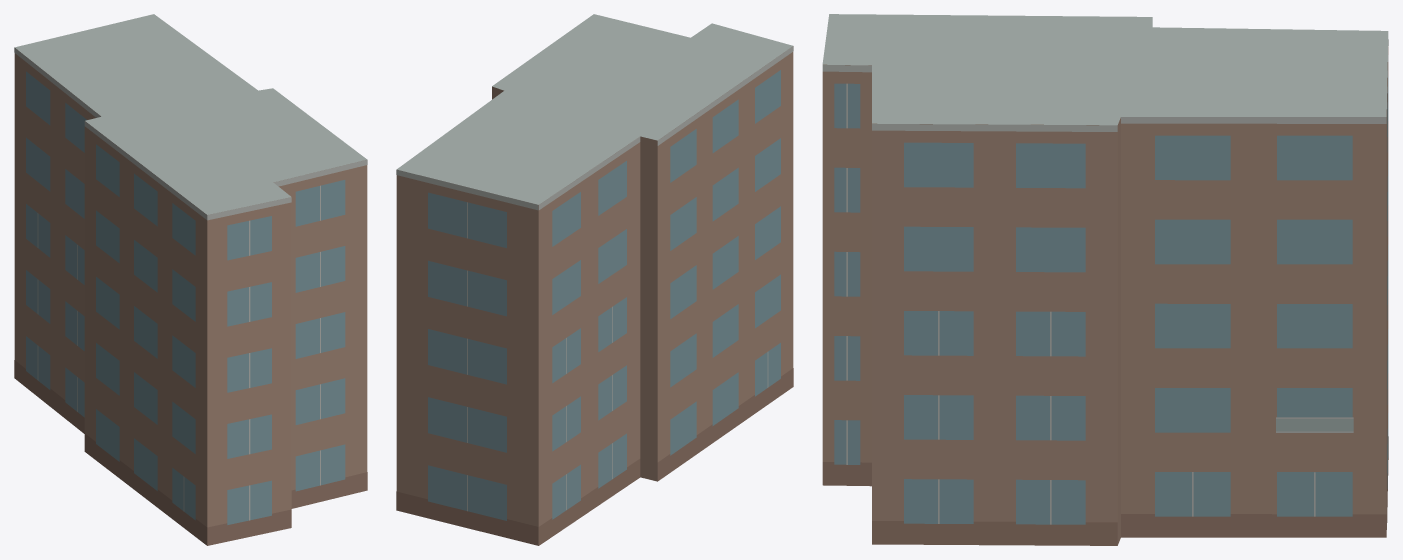
File: survey-upis-32922235.glb
3 views of the same model, side by side, from view 1: azimuth 30°, elevation 25°; view 2: azimuth 150°, elevation 25°; view 3: azimuth 270°, elevation 25° (orthographic). The views are drawn at different scales.
Parts seen in each view (by area): view 1: survey-upis-32922235.tmp; view 2: survey-upis-32922235.tmp; view 3: survey-upis-32922235.tmp.
Part boxes in pixels (x1,y1,x2,y2): survey-upis-32922235.tmp: (14,14,367,545); survey-upis-32922235.tmp: (396,14,793,545); survey-upis-32922235.tmp: (822,14,1388,545).
Size of the model in its own units: 8.49 by 14.95 by 18.24.
